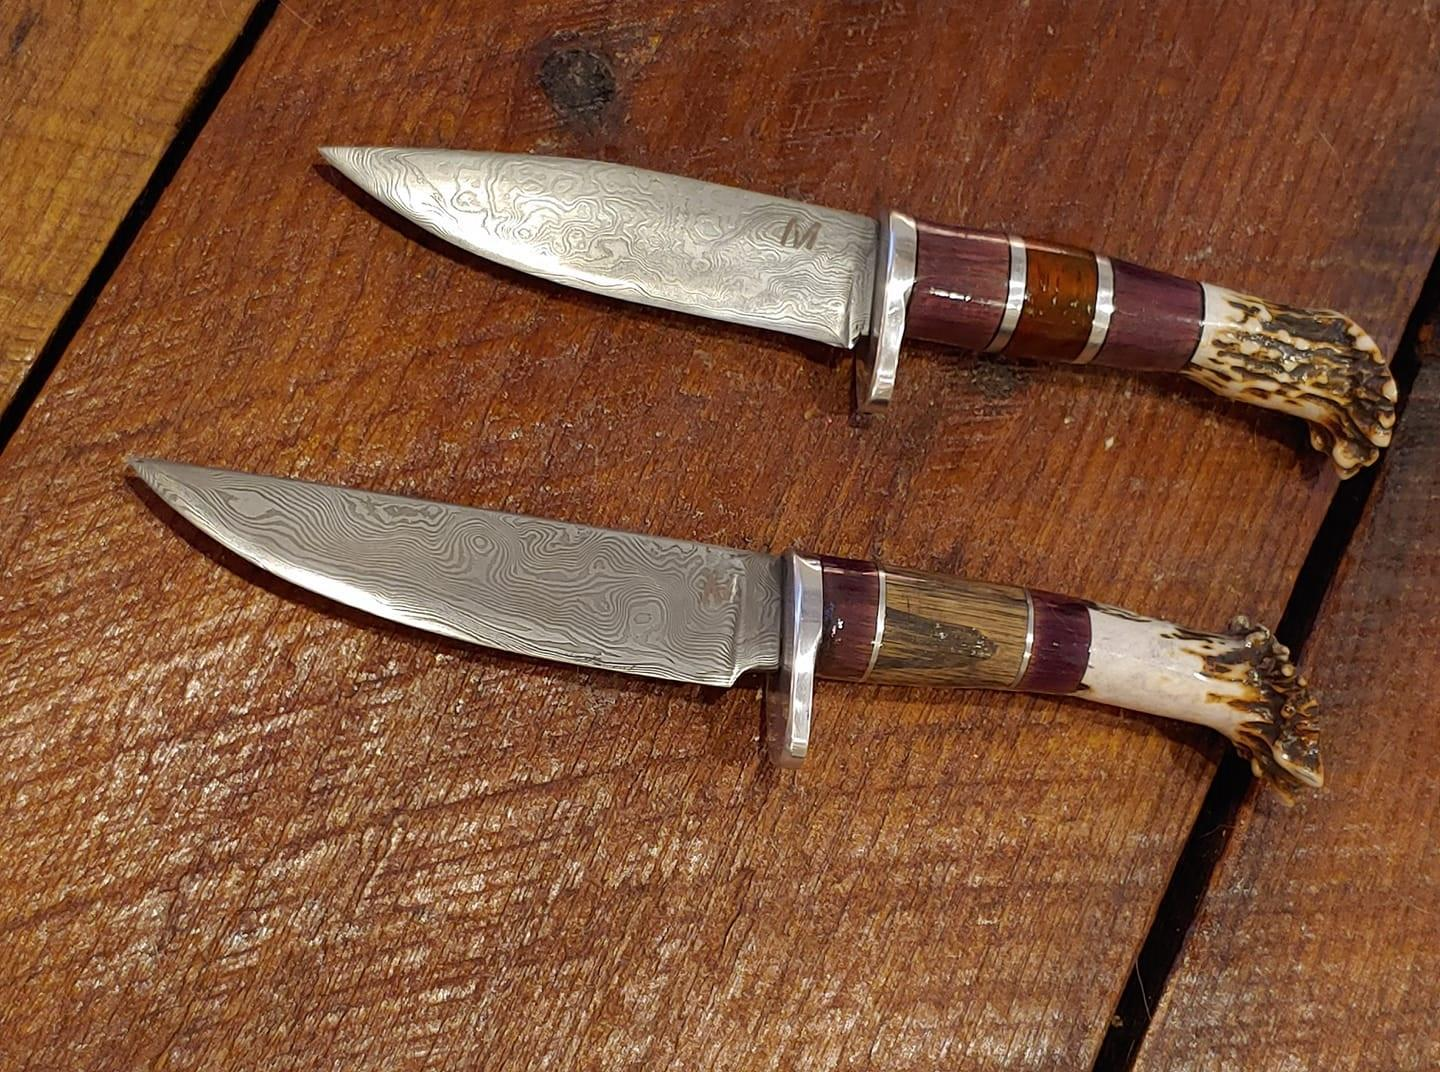faca: (126, 457, 1321, 795), (320, 148, 1396, 477)
